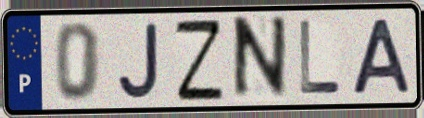0: (51, 19, 103, 106)
A: (348, 17, 415, 97)
J: (115, 21, 161, 102)
L: (297, 18, 343, 97)
N: (229, 13, 289, 106)
Z: (172, 16, 227, 104)
